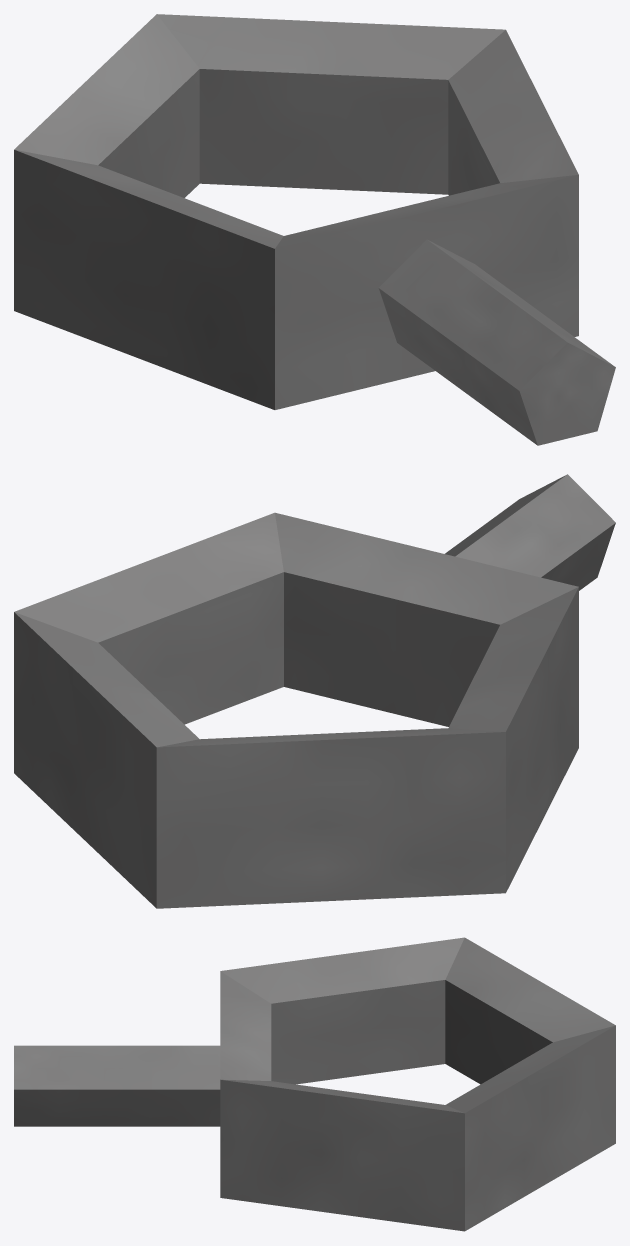
The model's file is portaPhon.fbx.
3 renders of one model, top to bottom at view 1: azimuth 30°, elevation 25°; view 2: azimuth 150°, elevation 25°; view 3: azimuth 270°, elevation 25°, orthographic. The views are drawn at different scales.
Parts seen in each view (by area): view 1: portaPhon; view 2: portaPhon; view 3: portaPhon.
Boxes of the visible parts, box(x1,y1,x2,y2) form: portaPhon: box(14, 14, 615, 445); portaPhon: box(14, 474, 615, 908); portaPhon: box(14, 937, 615, 1231).
Size of the model in its own units: 0.1938 by 0.0608 by 0.2805.
